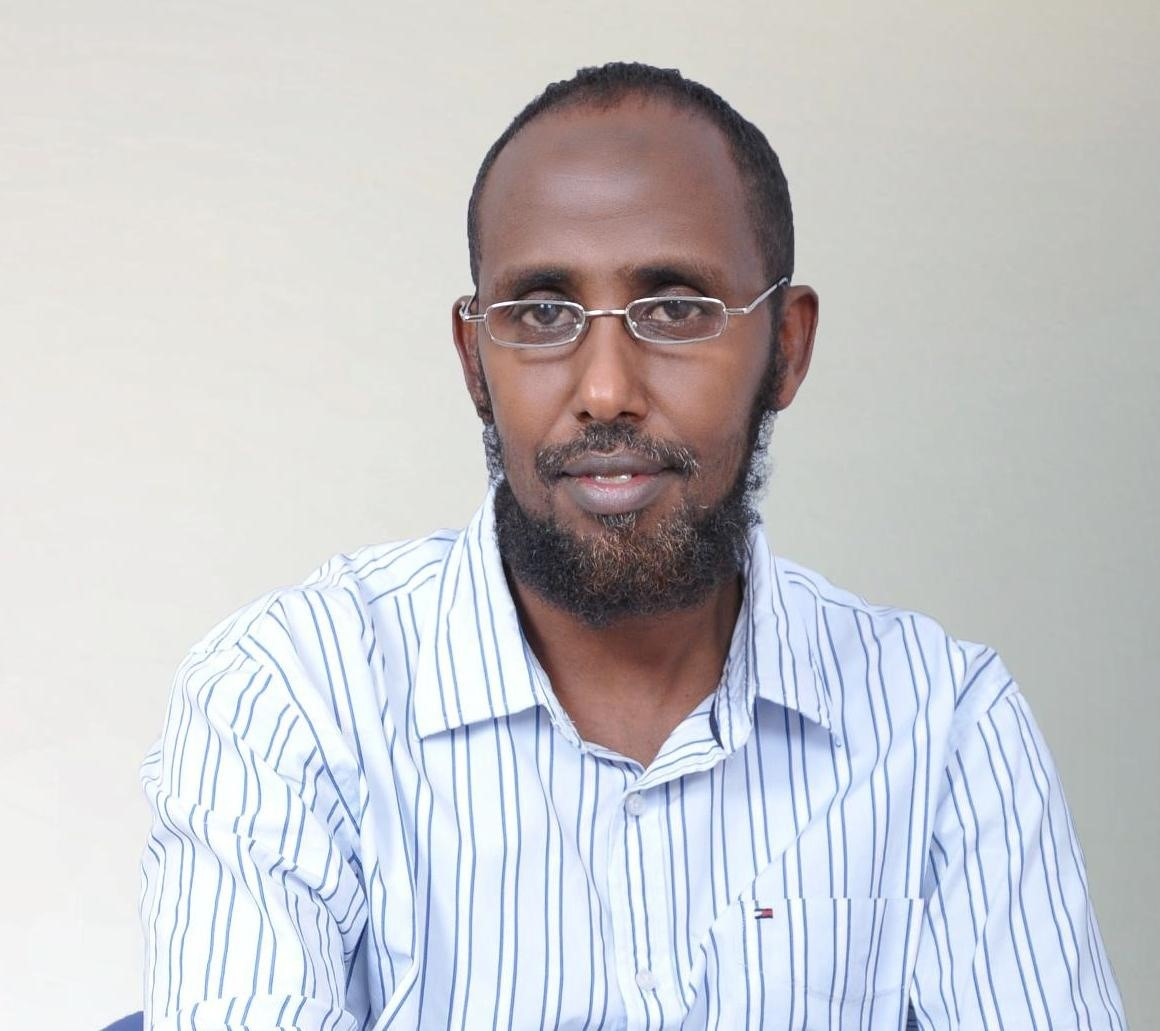face_no_mask: (460, 89, 800, 598)
